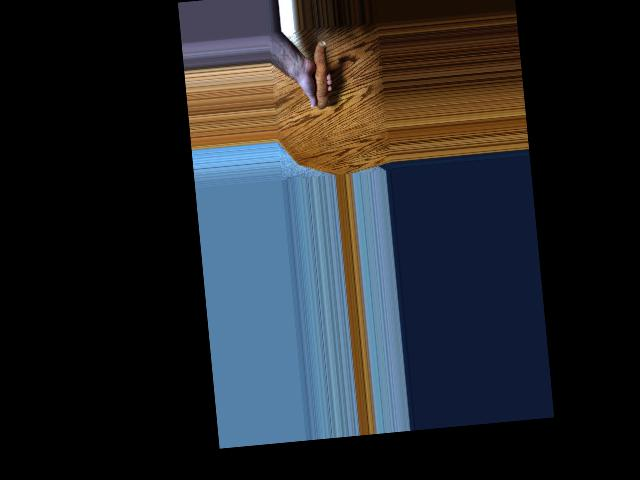sweet_potato: (304, 39, 331, 107)
